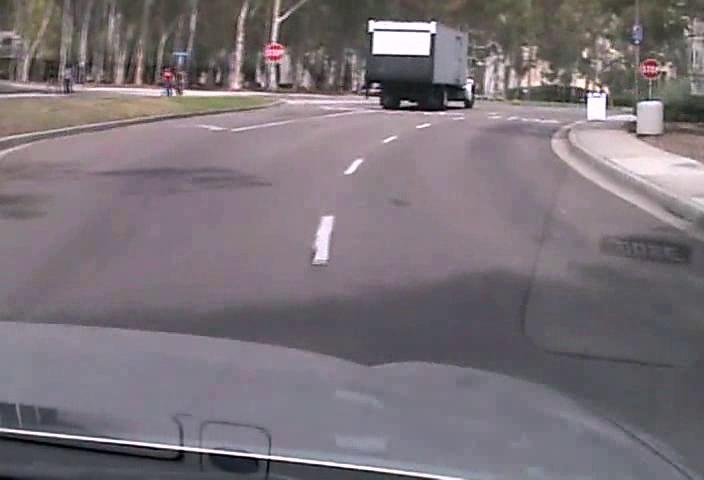stop: (263, 41, 284, 61)
